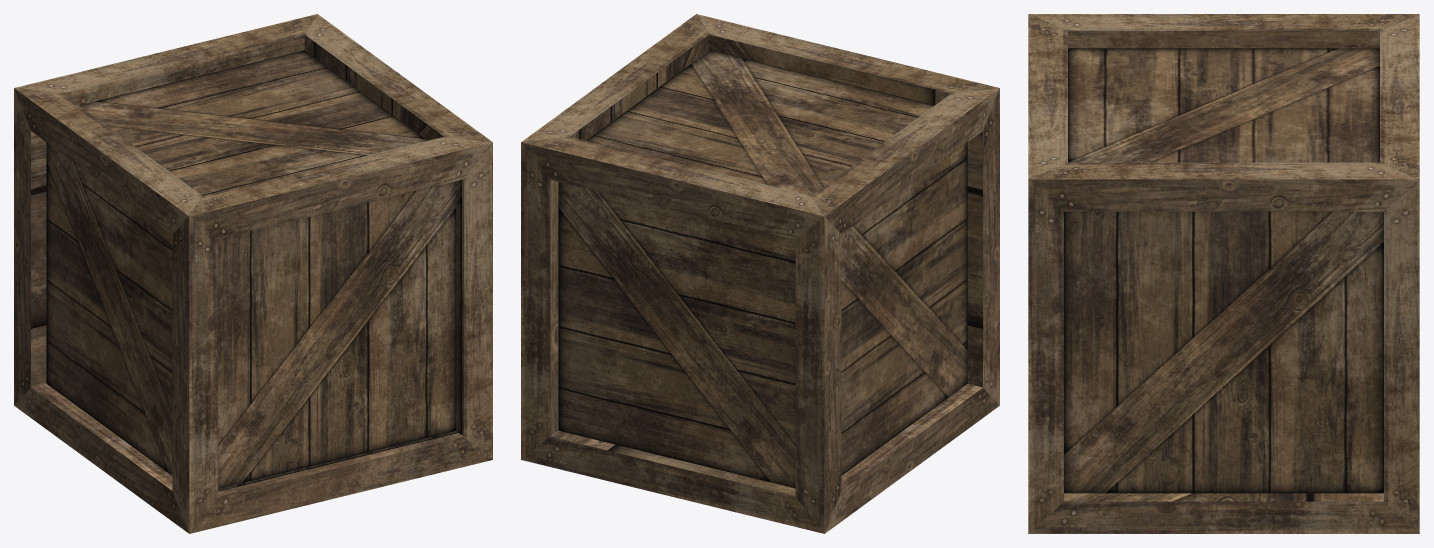
The model's file is Wood Box (Models).fbx.
3 views of the same model, side by side, from view 1: azimuth 30°, elevation 25°; view 2: azimuth 150°, elevation 25°; view 3: azimuth 270°, elevation 25° (orthographic). The views are drawn at different scales.
Visible parts, largest first — view 1: Cube; view 2: Cube; view 3: Cube.
Boxes of the visible parts, <box> form: Cube: <box>14,14,492,533</box>; Cube: <box>521,14,999,533</box>; Cube: <box>1028,14,1419,533</box>.
Bounding box in the file's own units: 200 × 200 × 200.
1 material, 1 textured.
